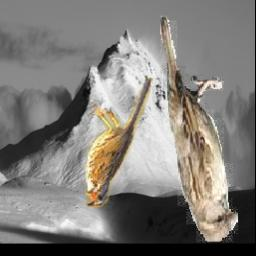Sparrow: (160, 16, 238, 244), (86, 79, 153, 208)
